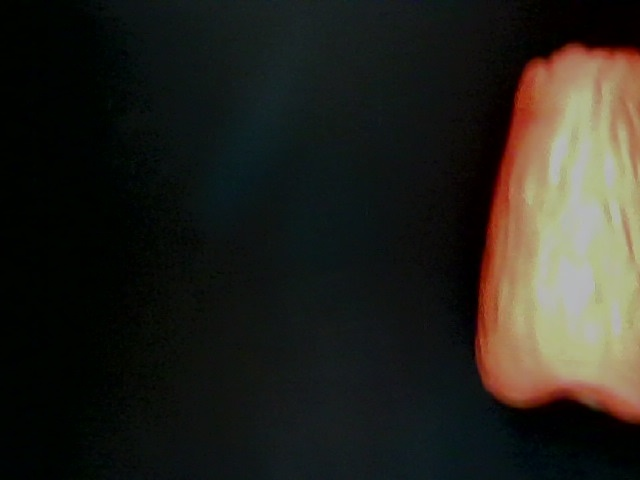QTLJ: (387, 34, 603, 176)
